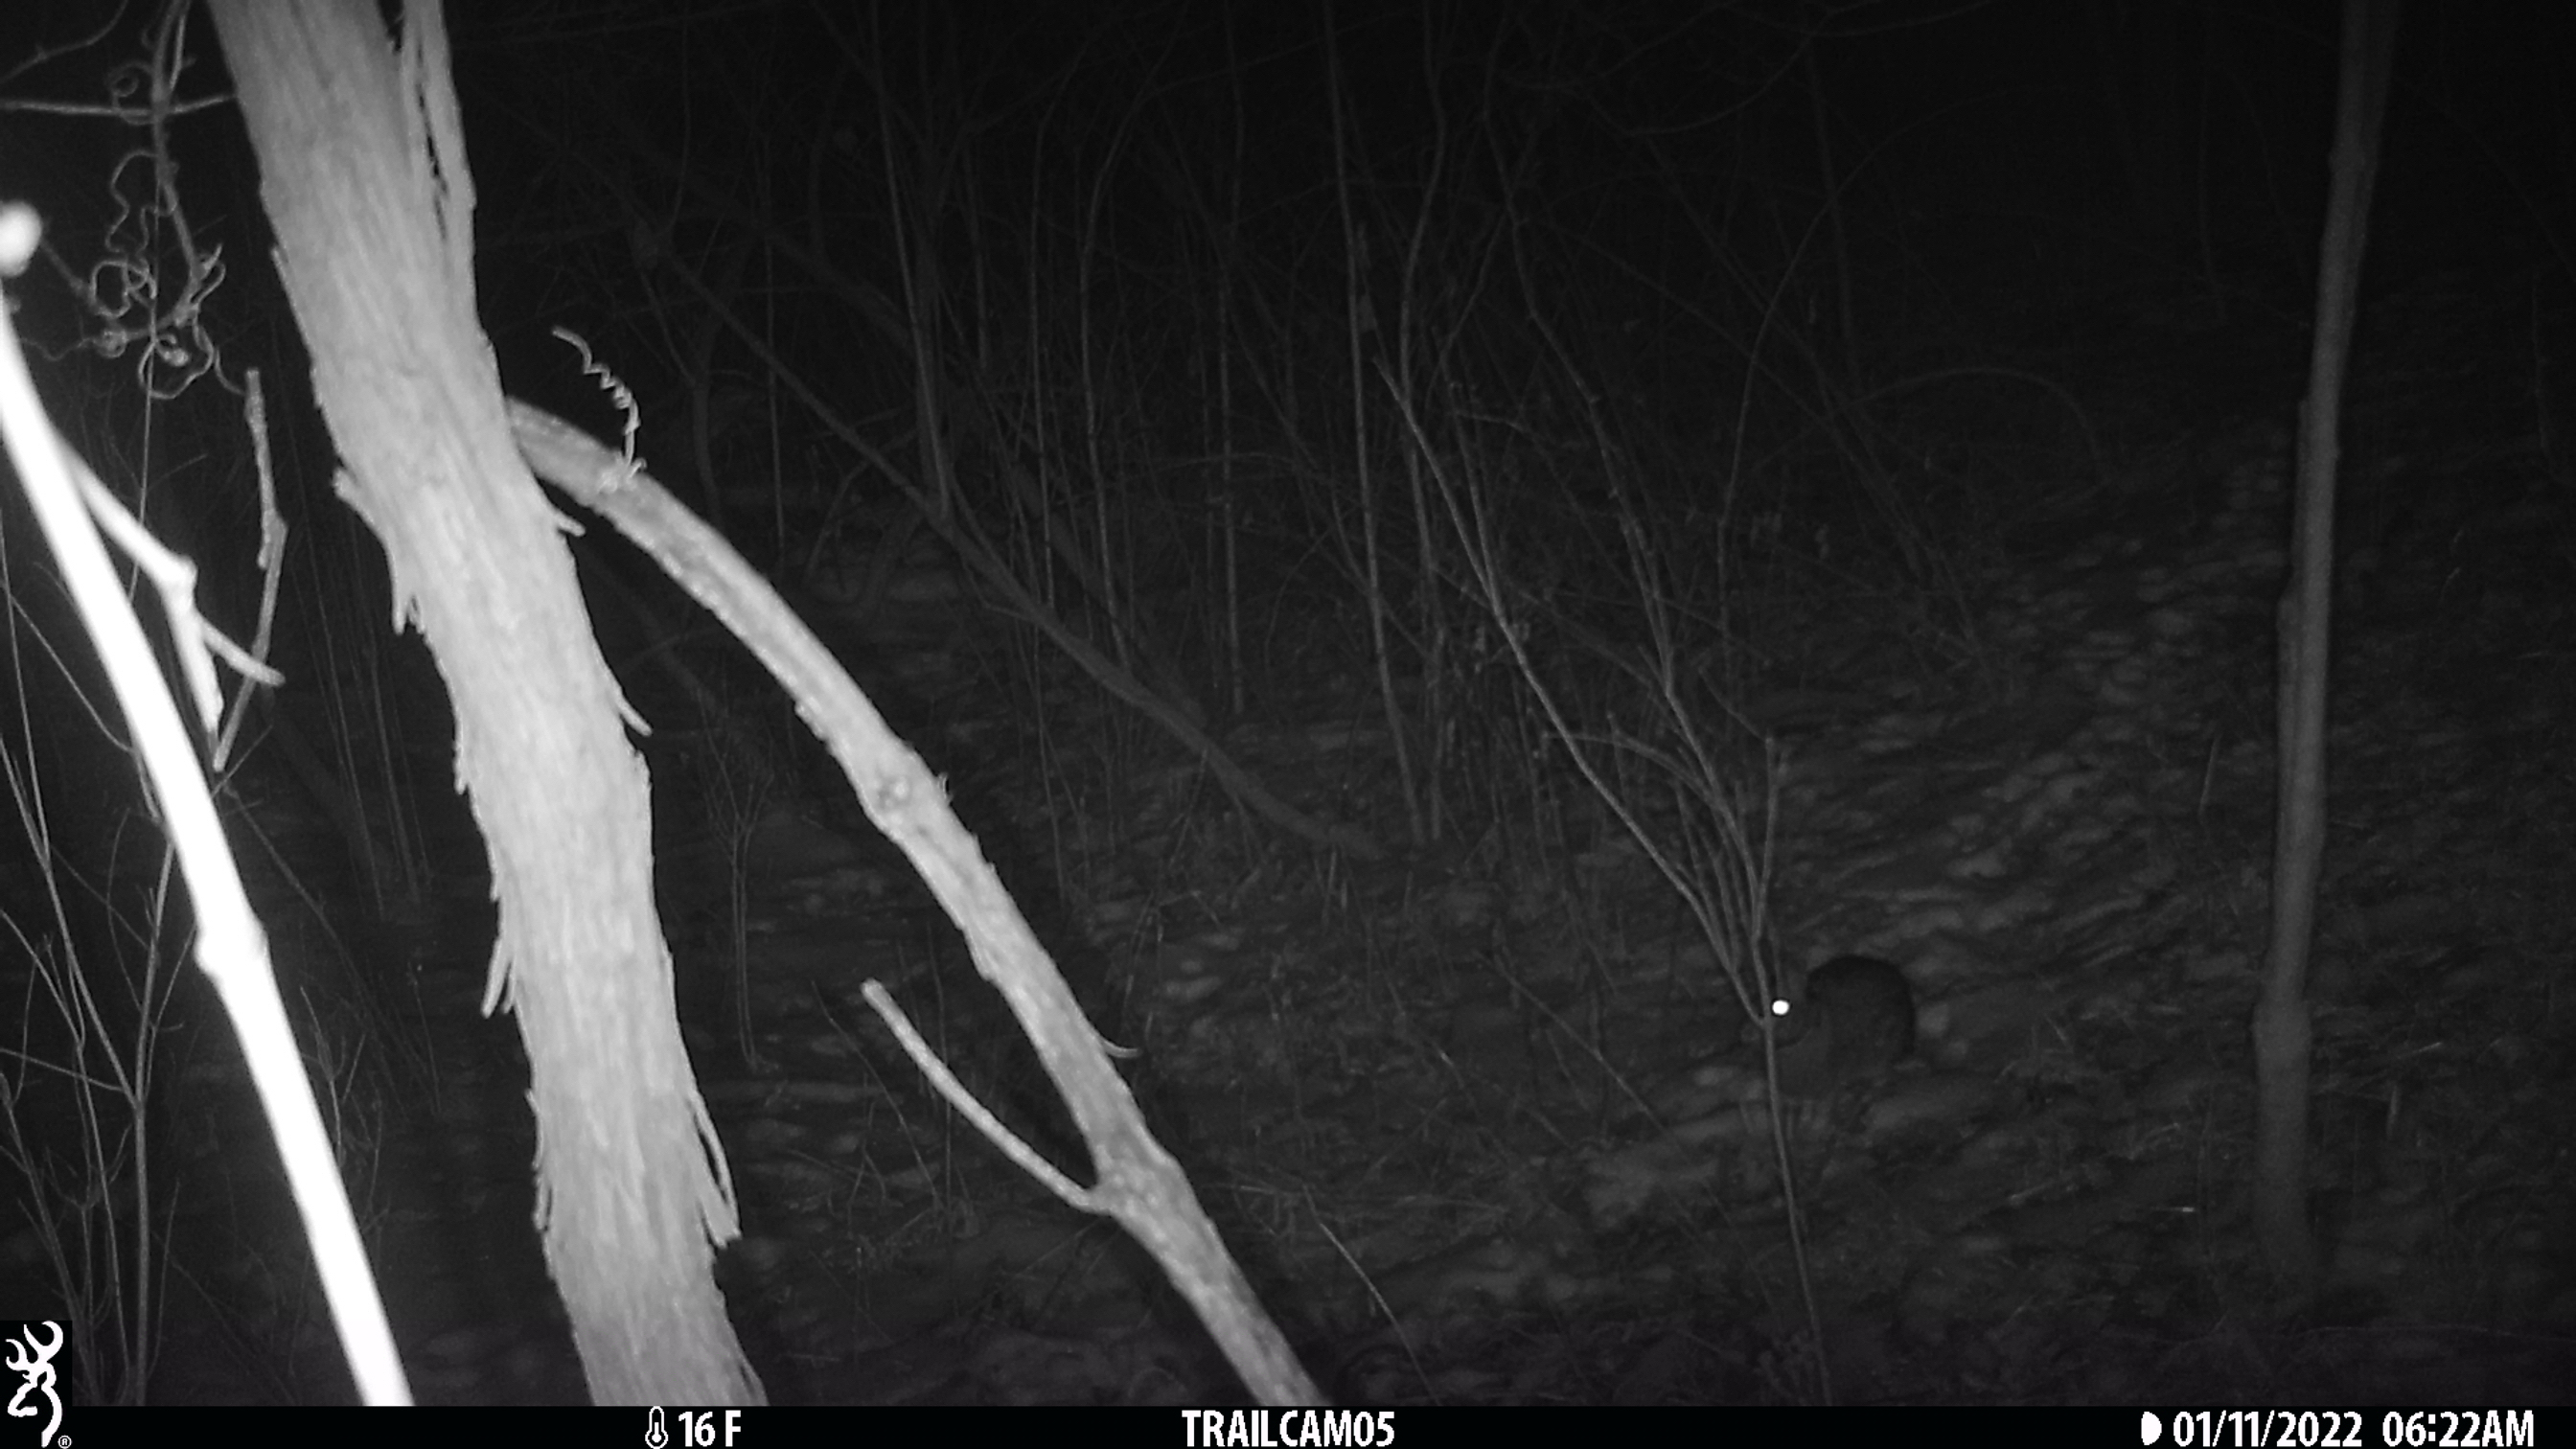Rabbit: (1757, 945, 1925, 1083)
